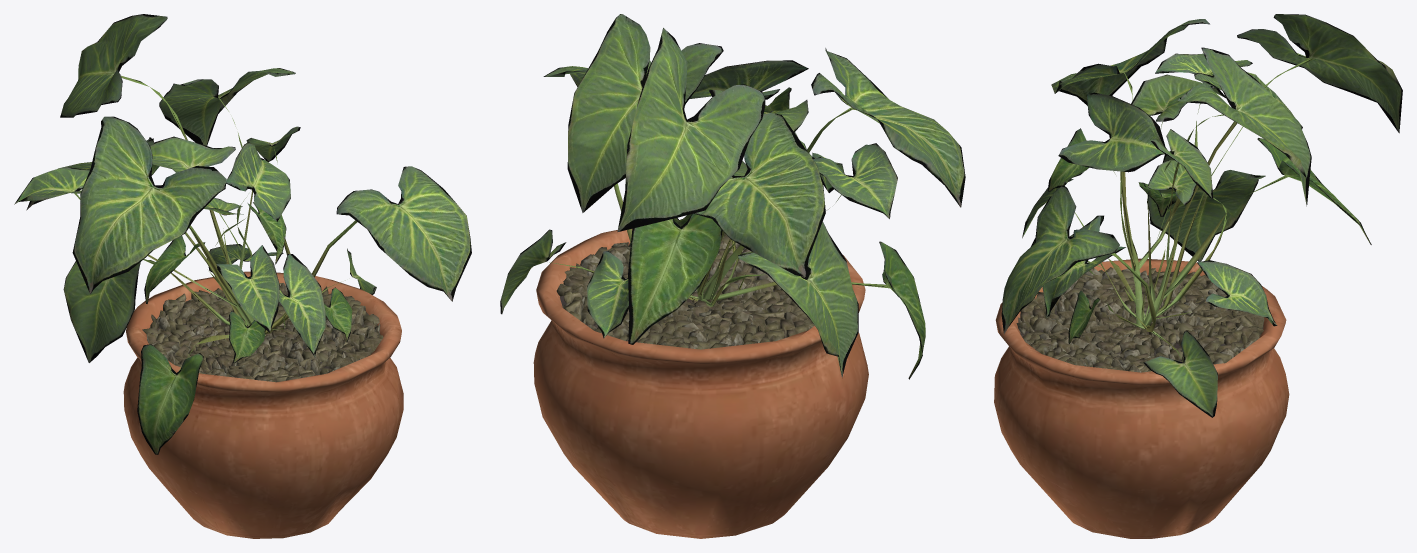
File: potted_plant_02.glb
The picture shows the model from 3 angles, left to right: view 1: azimuth 30°, elevation 25°; view 2: azimuth 150°, elevation 25°; view 3: azimuth 270°, elevation 25°; orthographic projection. The views are drawn at different scales.
Parts seen in each view (by area): view 1: potted_plant_02_leaves, potted_plant_02_pot, potted_plant_02_dirt; view 2: potted_plant_02_leaves, potted_plant_02_pot, potted_plant_02_dirt; view 3: potted_plant_02_leaves, potted_plant_02_pot, potted_plant_02_dirt.
Part boxes in pixels (<box>): potted_plant_02_leaves: <box>14,14,471,454</box>; potted_plant_02_pot: <box>123,271,403,538</box>; potted_plant_02_dirt: <box>142,283,383,382</box>; potted_plant_02_leaves: <box>500,14,965,379</box>; potted_plant_02_pot: <box>533,229,868,538</box>; potted_plant_02_dirt: <box>556,233,814,349</box>; potted_plant_02_leaves: <box>1001,14,1402,417</box>; potted_plant_02_pot: <box>994,258,1289,538</box>; potted_plant_02_dirt: <box>1016,267,1264,372</box>.
Bounding box in the file's own units: 0.7012 × 0.8401 × 0.6537.
2 materials, 2 textured.
